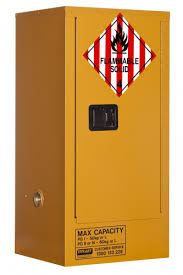FlammableSolid: (86, 15, 156, 96)
